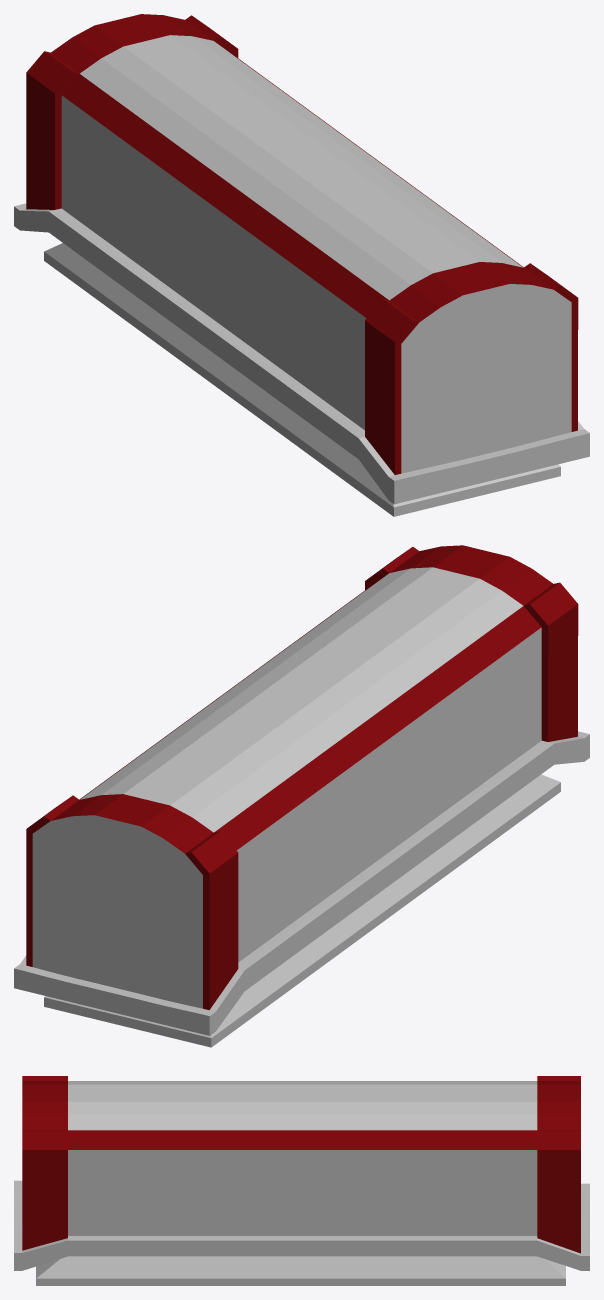
The model's file is Train_Middle 1.fbx.
3 views of the same model, one above another, from view 1: azimuth 30°, elevation 25°; view 2: azimuth 150°, elevation 25°; view 3: azimuth 270°, elevation 25° (orthographic). The views are drawn at different scales.
Visible parts, largest first — view 1: Cube, Cube.002; view 2: Cube, Cube.002; view 3: Cube, Cube.002.
Boxes of the visible parts, x1,y1,x2,y2 form: Cube: (14,35,589,516); Cube.002: (26,14,578,474); Cube: (14,567,589,1047); Cube.002: (26,545,578,1010); Cube: (14,1081,589,1285); Cube.002: (22,1076,580,1253).
Size of the model in its own units: 920 by 959 by 3094.
